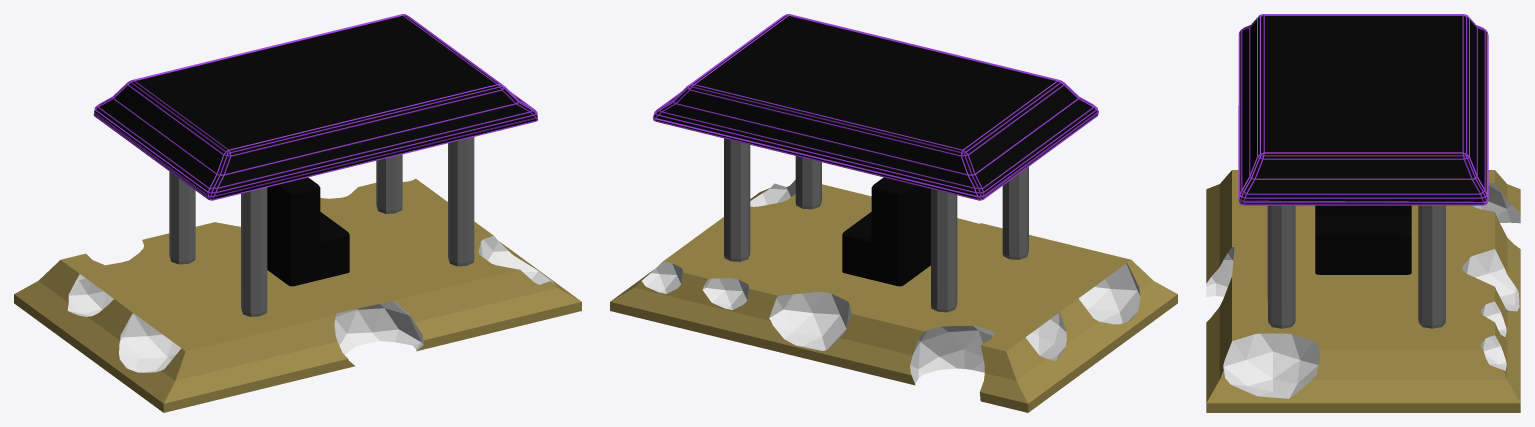
The model's file is monster house 3.fbx.
The picture shows the model from 3 angles, left to right: view 1: azimuth 30°, elevation 25°; view 2: azimuth 150°, elevation 25°; view 3: azimuth 270°, elevation 25°; orthographic projection. The views are drawn at different scales.
Visible parts, largest first — view 1: Cube, Cube.002, Cube.001, Cube.003, Cube.004; view 2: Cube, Cube.002, Cube.001, Cube.003, Cube.004; view 3: Cube, Cube.002, Cube.003, Cube.001, Cube.004.
Part boxes in pixels (x1,y1,x2,y2): Cube: [14, 178, 581, 412]; Cube.002: [95, 16, 537, 199]; Cube.001: [169, 137, 474, 316]; Cube.003: [93, 14, 538, 200]; Cube.004: [267, 177, 349, 286]; Cube: [610, 180, 1177, 412]; Cube.002: [654, 16, 1096, 199]; Cube.001: [724, 138, 1028, 312]; Cube.003: [653, 14, 1098, 200]; Cube.004: [842, 177, 930, 286]; Cube: [1206, 170, 1520, 412]; Cube.002: [1240, 16, 1486, 204]; Cube.003: [1238, 14, 1488, 205]; Cube.001: [1267, 205, 1445, 328]; Cube.004: [1315, 205, 1411, 274].
Bounding box in the file's own units: 938 × 473 × 582.
